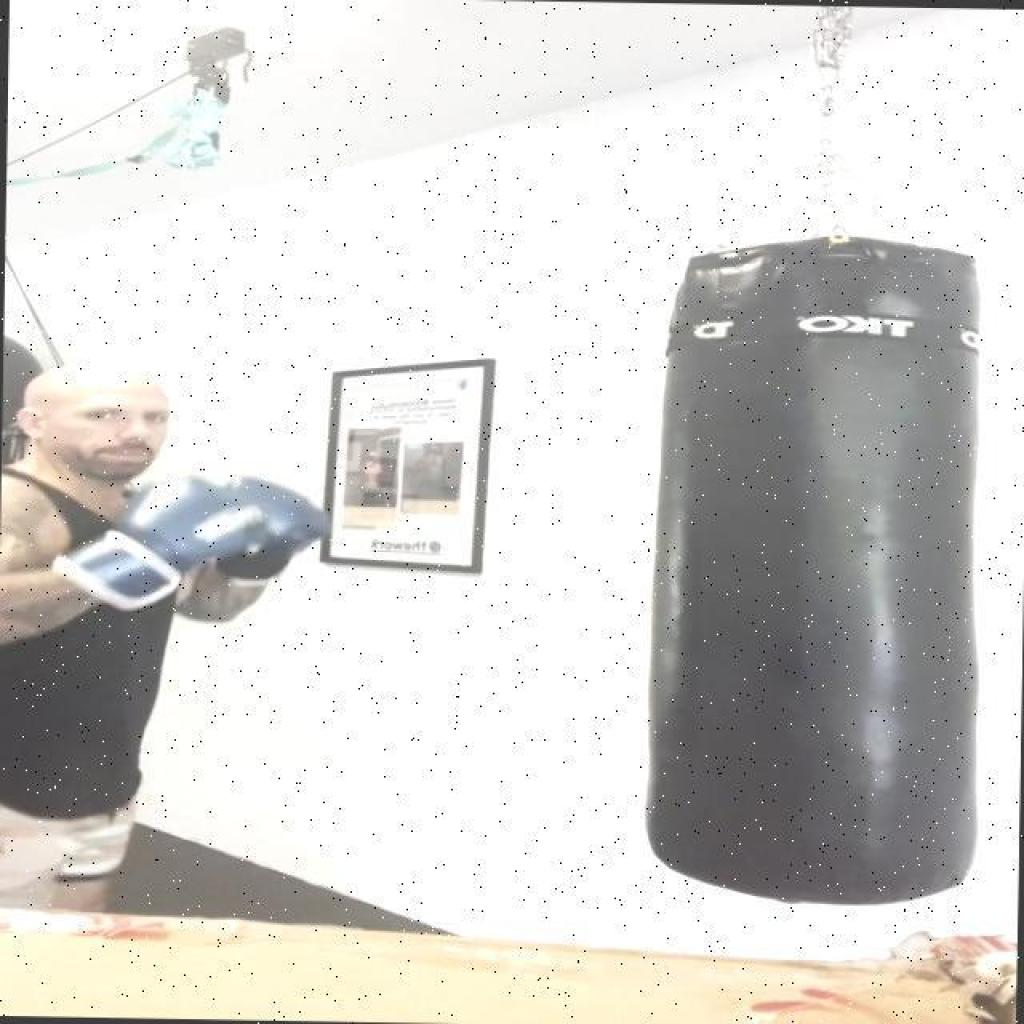bag: (619, 232, 1008, 902)
